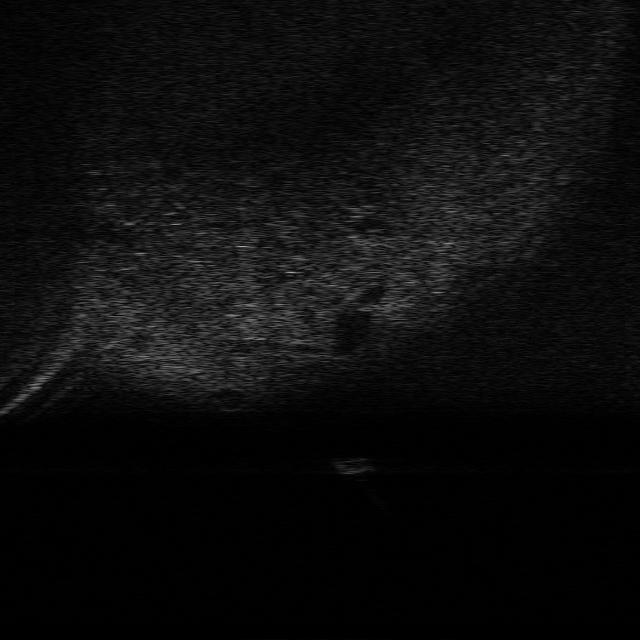cube: (332, 457, 376, 475)
